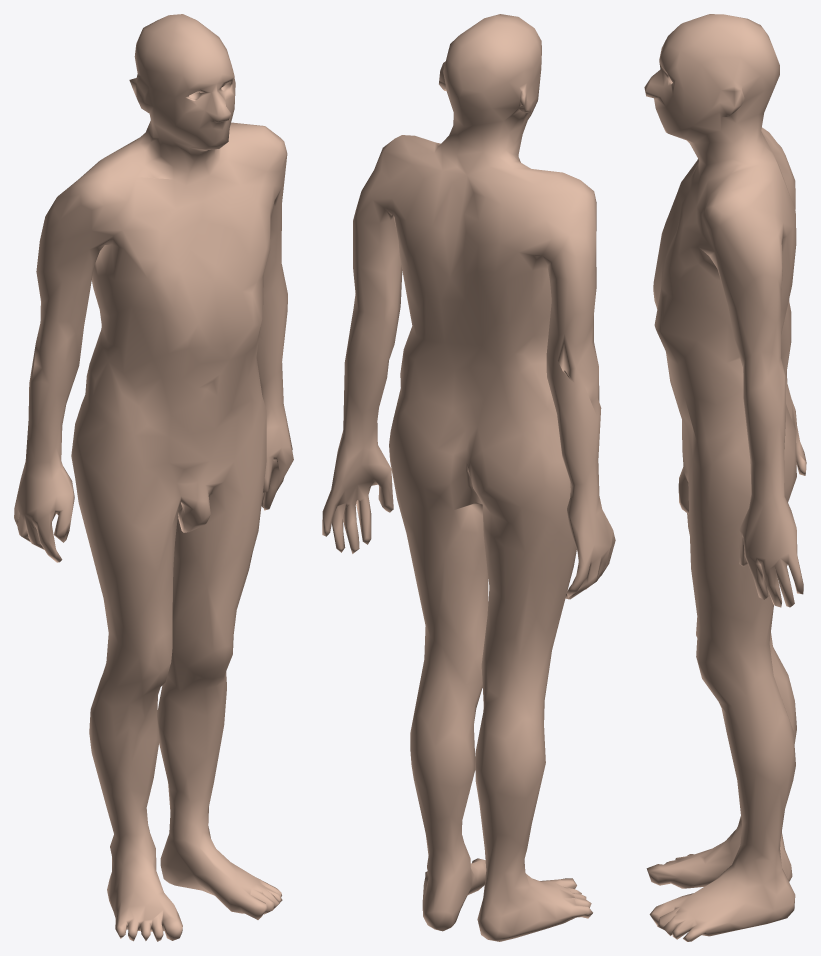
File: icrp_adult_male.surface.LOD3.glb
3 renders of one model, left to right at view 1: azimuth 30°, elevation 25°; view 2: azimuth 150°, elevation 25°; view 3: azimuth 270°, elevation 25°, orthographic.
Visible parts, largest first — view 1: ICRP.ADULT.MALE.SURFACE.SKIN; view 2: ICRP.ADULT.MALE.SURFACE.SKIN; view 3: ICRP.ADULT.MALE.SURFACE.SKIN.
Part boxes in pixels (left/top/right/bottom): ICRP.ADULT.MALE.SURFACE.SKIN: left=14, top=14, right=293, bottom=941; ICRP.ADULT.MALE.SURFACE.SKIN: left=322, top=14, right=615, bottom=941; ICRP.ADULT.MALE.SURFACE.SKIN: left=644, top=14, right=806, bottom=941.
Size of the model in its own units: 0.5599 by 1.76 by 0.2916.
